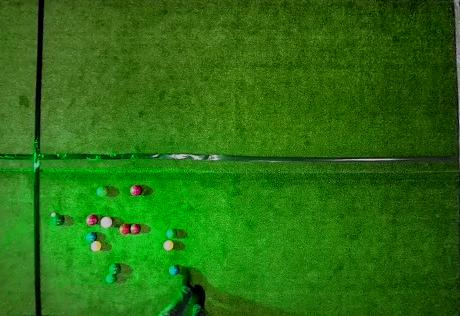blue: (86, 232, 97, 243), (169, 265, 179, 275)
green: (96, 186, 108, 198), (109, 264, 121, 274), (106, 274, 117, 284), (166, 229, 177, 239), (53, 215, 64, 225)
red: (100, 217, 112, 228), (130, 185, 141, 196), (86, 215, 97, 226), (120, 224, 130, 235), (130, 224, 141, 234)
vline: (1, 0, 45, 315), (451, 0, 459, 316)
white: (51, 213, 56, 217)
yellow: (163, 240, 174, 251), (91, 241, 101, 251)
